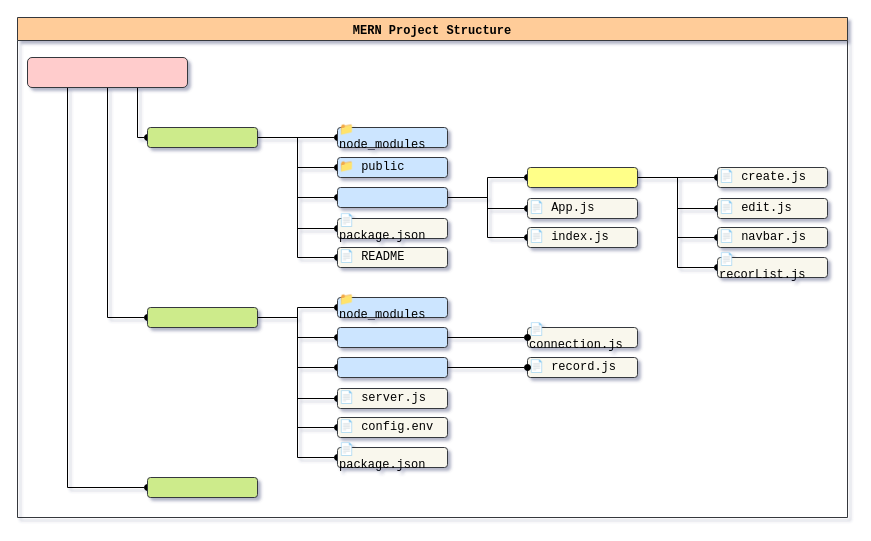
Image size: 871x541. Some labels were removed from this diagram. The centre of each missing label's shape, as x and y in pixels:
📁 .git: [202,487]
📁 client: [202,137]
📁 components: [582,177]
📁 db: [392,337]
📁 root-directory: [107,72]
📁 routes: [392,367]
📁 server: [202,317]
📁 src: [392,197]
